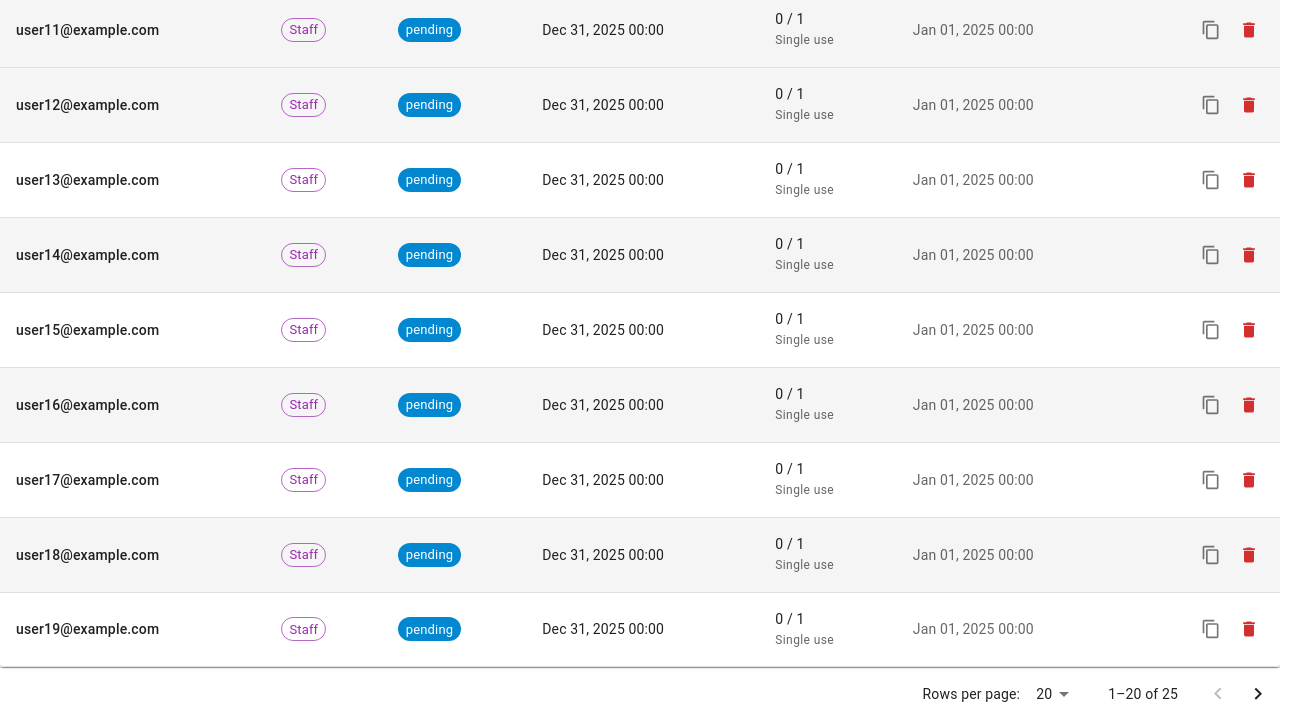
InviteList › Pagination › should paginate invites correctly
The width and height of the screenshot is (1292, 720).
(page scrolled)
Expected: the text "1–20 of 25" is shown, [1108, 684, 1178, 704]
// Go to next page
Click the button named "next page": (1258, 694) [1238, 674, 1278, 714]
(page scrolled)
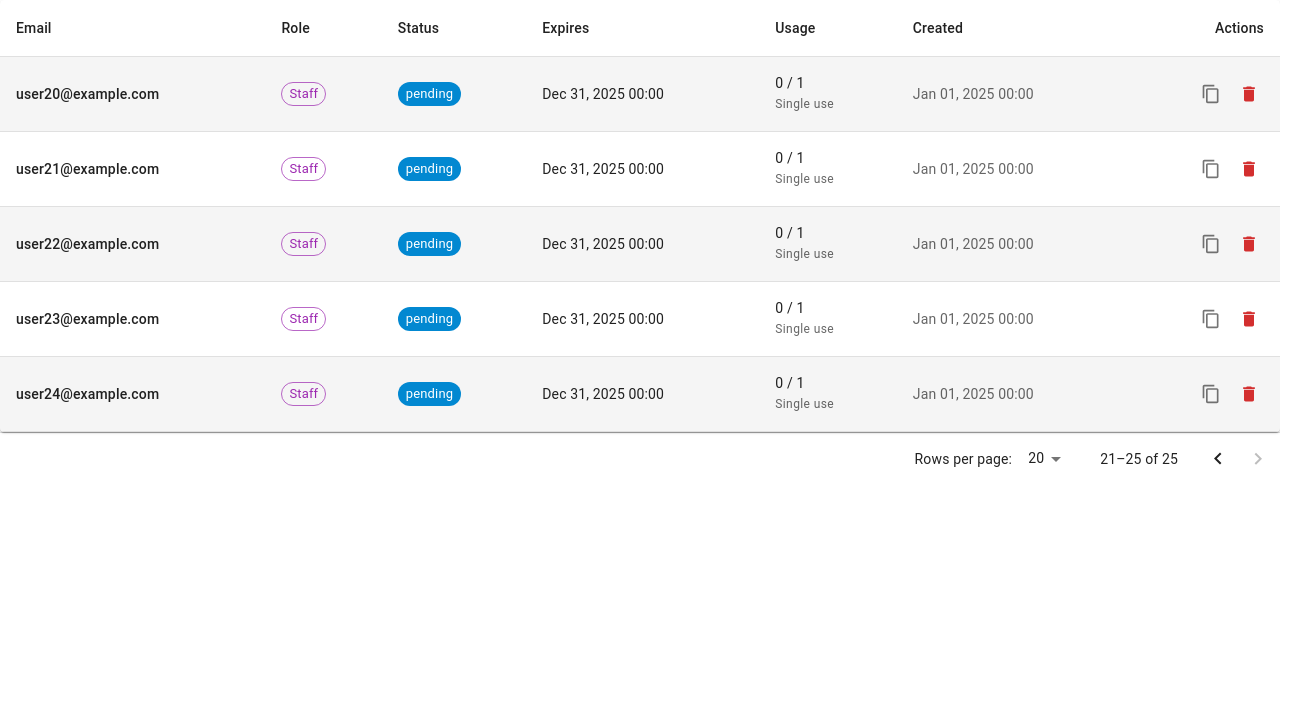
Now the text "21–25 of 25" is shown, box [1100, 449, 1178, 469]
